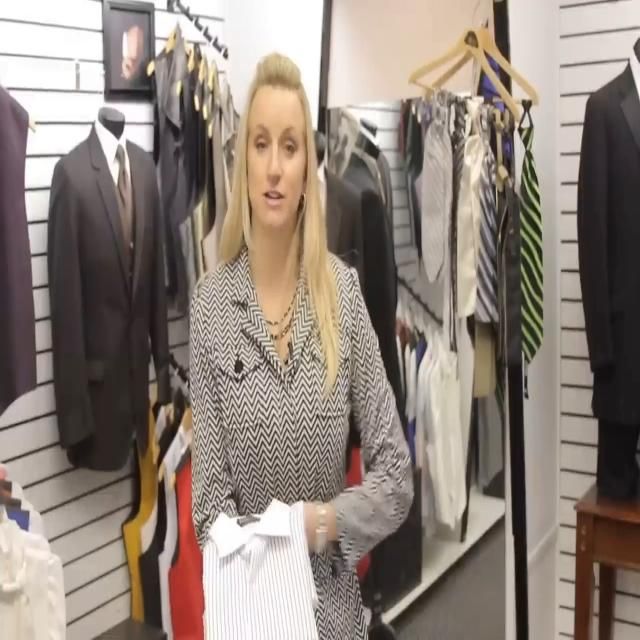Shirt: (201, 498, 318, 640)
